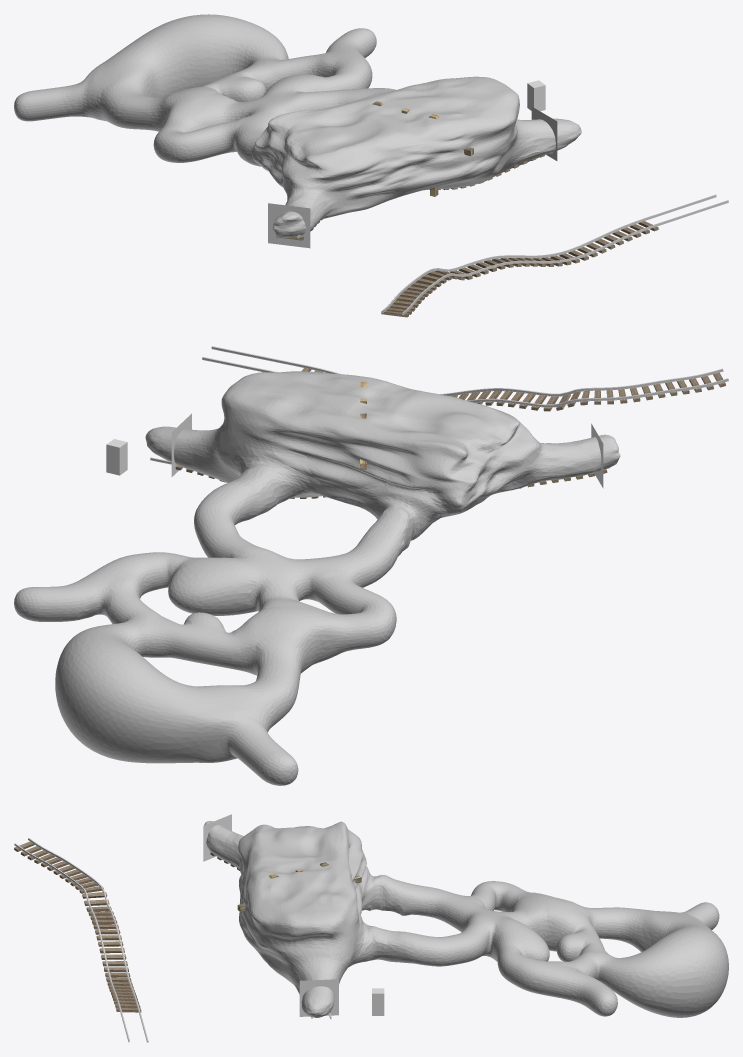
File: Level 2 Version 3.fbx
The picture shows the model from 3 angles, top to bottom: view 1: azimuth 30°, elevation 25°; view 2: azimuth 150°, elevation 25°; view 3: azimuth 270°, elevation 25°; orthographic projection. The views are drawn at different scales.
Parts seen in each view (by area): view 1: Cave, RailBoard.001, RailShape.001, Emission1, Cube; view 2: Cave, RailShape.001, RailBoard.001, Cube; view 3: Cave, RailBoard.001, RailShape.001, Emission2, Emission1.
Boxes of the visible parts, bbox=[...] form: Cave: bbox=[14, 14, 581, 237]; RailBoard.001: bbox=[381, 221, 658, 317]; RailShape.001: bbox=[382, 194, 728, 315]; Emission1: bbox=[268, 203, 310, 248]; Cube: bbox=[527, 80, 545, 111]; Cave: bbox=[14, 371, 620, 785]; RailShape.001: bbox=[202, 346, 728, 407]; RailBoard.001: bbox=[301, 368, 725, 411]; Cube: bbox=[106, 439, 127, 475]; Cave: bbox=[204, 821, 728, 1017]; RailBoard.001: bbox=[14, 841, 141, 1012]; RailShape.001: bbox=[14, 838, 148, 1042]; Emission2: bbox=[299, 979, 338, 1016]; Emission1: bbox=[203, 814, 231, 861].
Size of the model in its own units: 3459 by 1264 by 5811.
